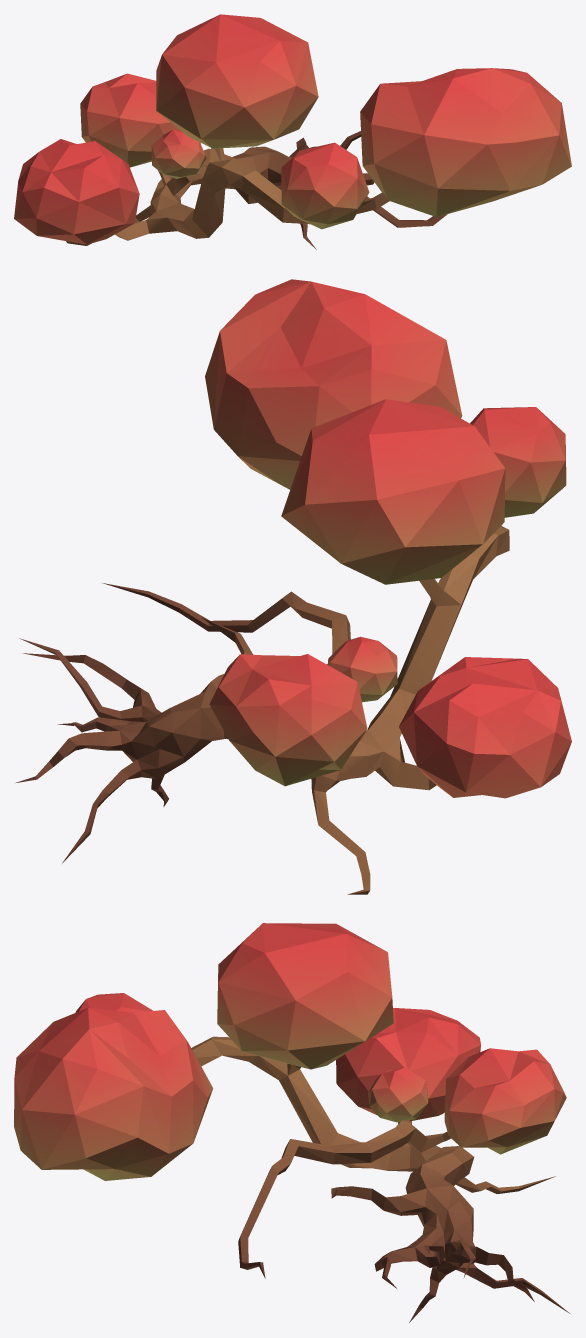
Rendered from ZLP_Plant_D_10.FBX.
3 views of the same model, one above another, from view 1: azimuth 30°, elevation 25°; view 2: azimuth 150°, elevation 25°; view 3: azimuth 270°, elevation 25° (orthographic). The views are drawn at different scales.
Visible parts, largest first — view 1: ZLP_Plant_D_10; view 2: ZLP_Plant_D_10; view 3: ZLP_Plant_D_10.
Boxes of the visible parts, left/top/right/bottom form: ZLP_Plant_D_10: left=14, top=14, right=571, bottom=249; ZLP_Plant_D_10: left=16, top=279, right=571, bottom=894; ZLP_Plant_D_10: left=14, top=923, right=569, bottom=1322.
Bounding box in the file's own units: 549 × 373 × 586.
